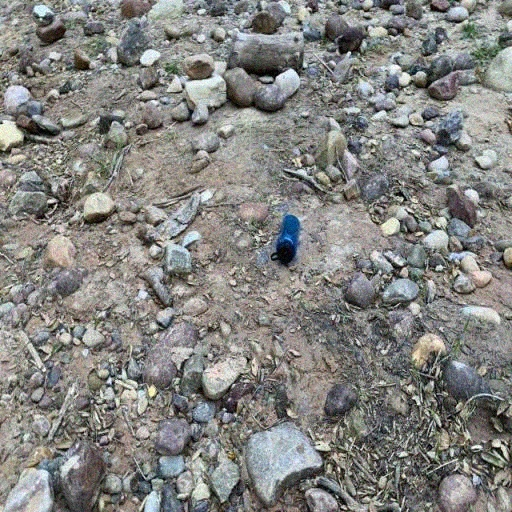bottle: (271, 214, 300, 264)
